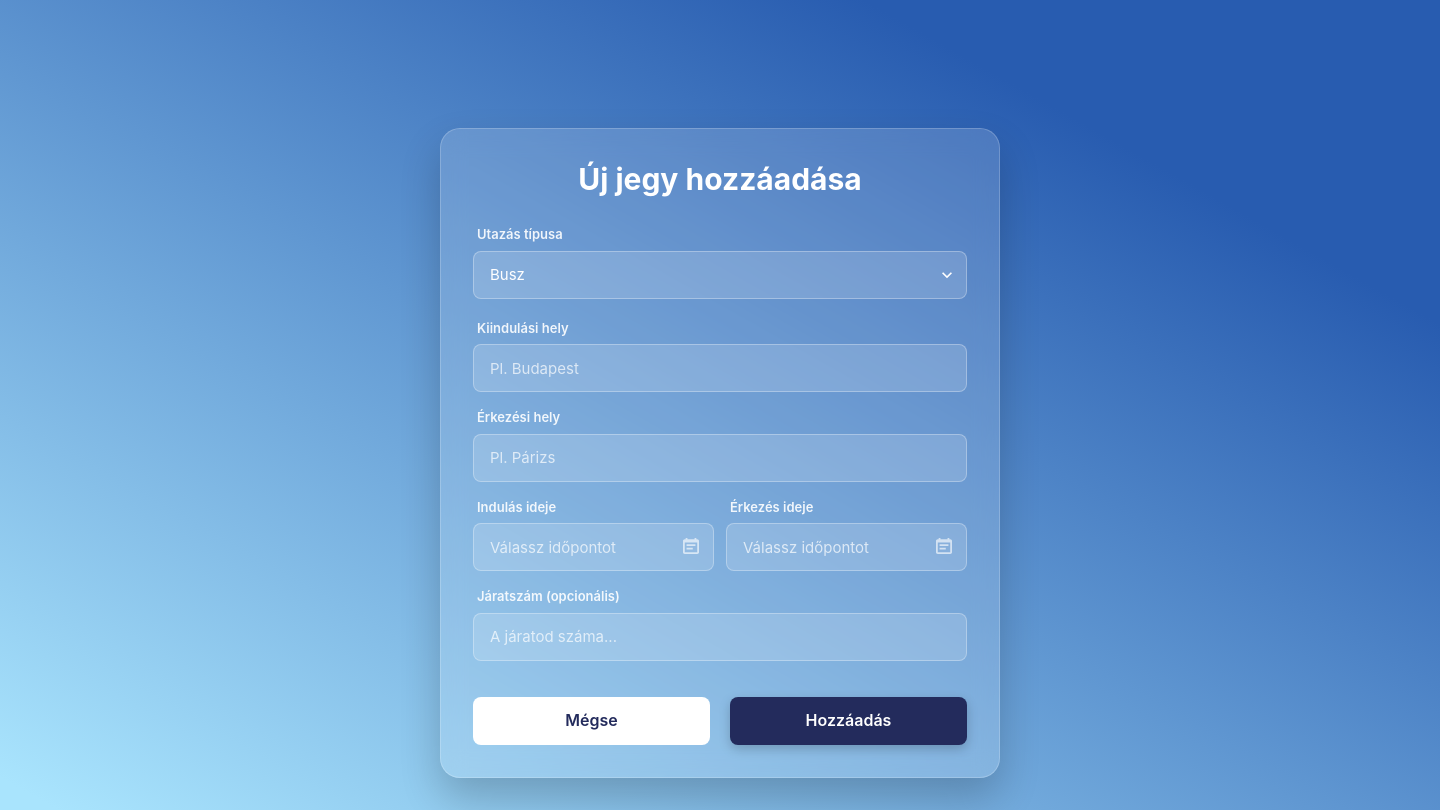
Test case: UjJegyForm › autó típusnál elrejti a járatszám mezőt
Expected: the text "Járatszám (opcionális)" is shown, [477,588,620,604]
Select "Autó" in the dropdown at [720, 275], box [473,251,967,299]
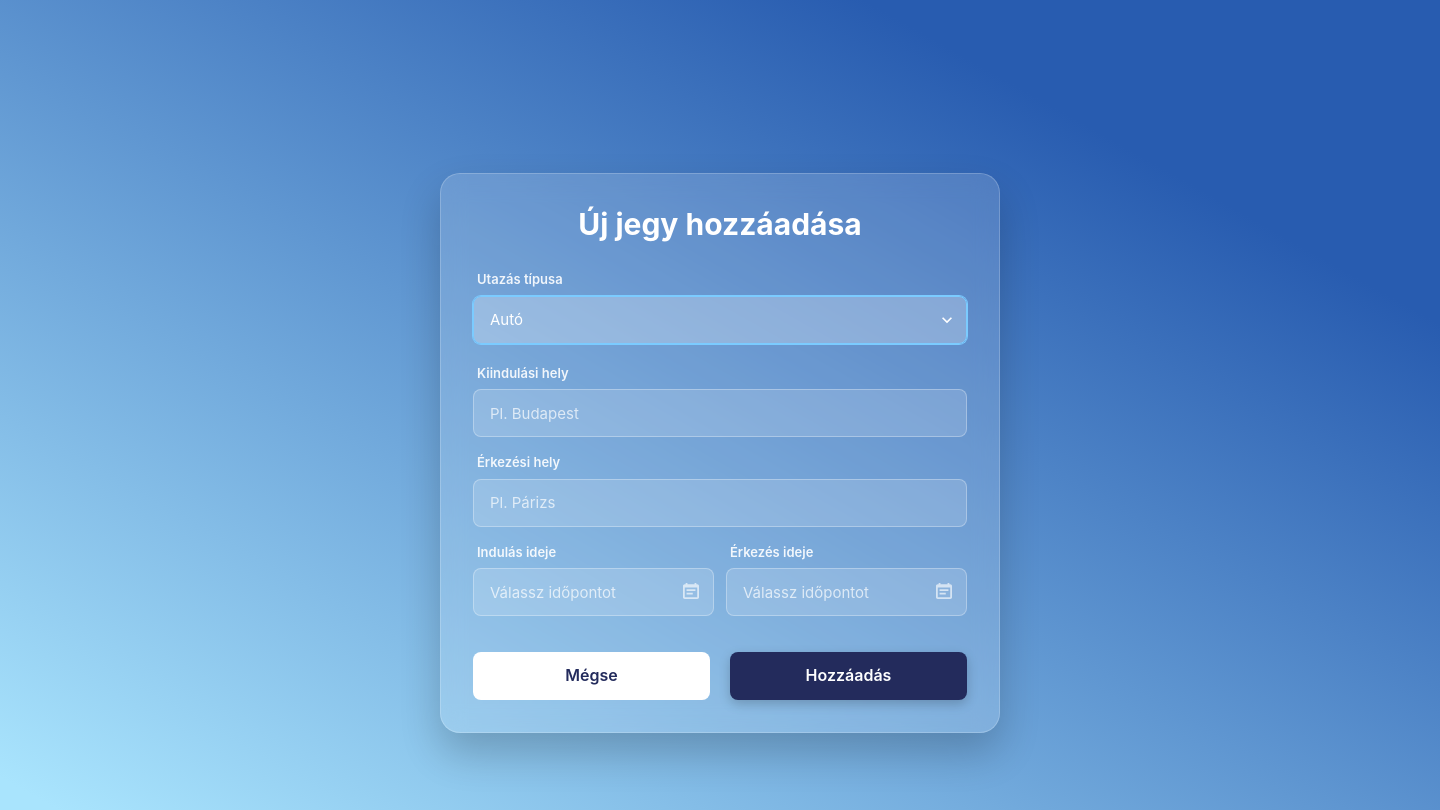
Expected: the text "Járatszám (opcionális)" is gone
